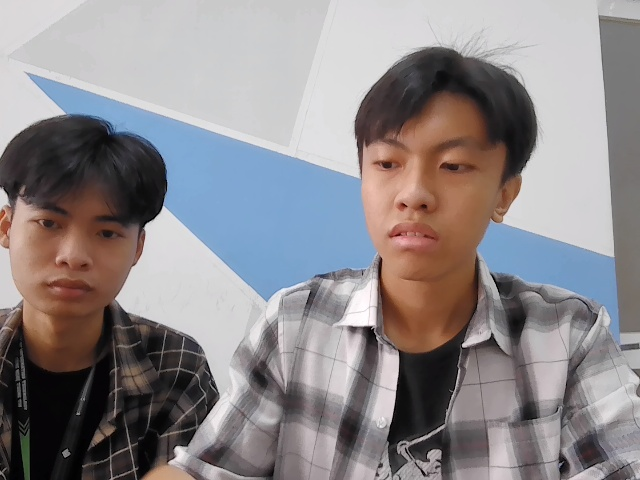human: (352, 41, 539, 287), (1, 108, 176, 318)
